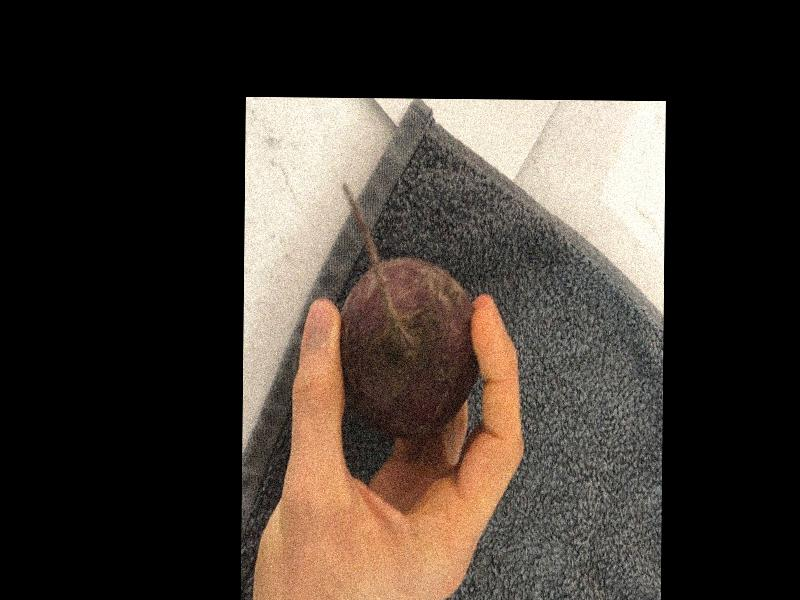Beet: (338, 182, 480, 438)
